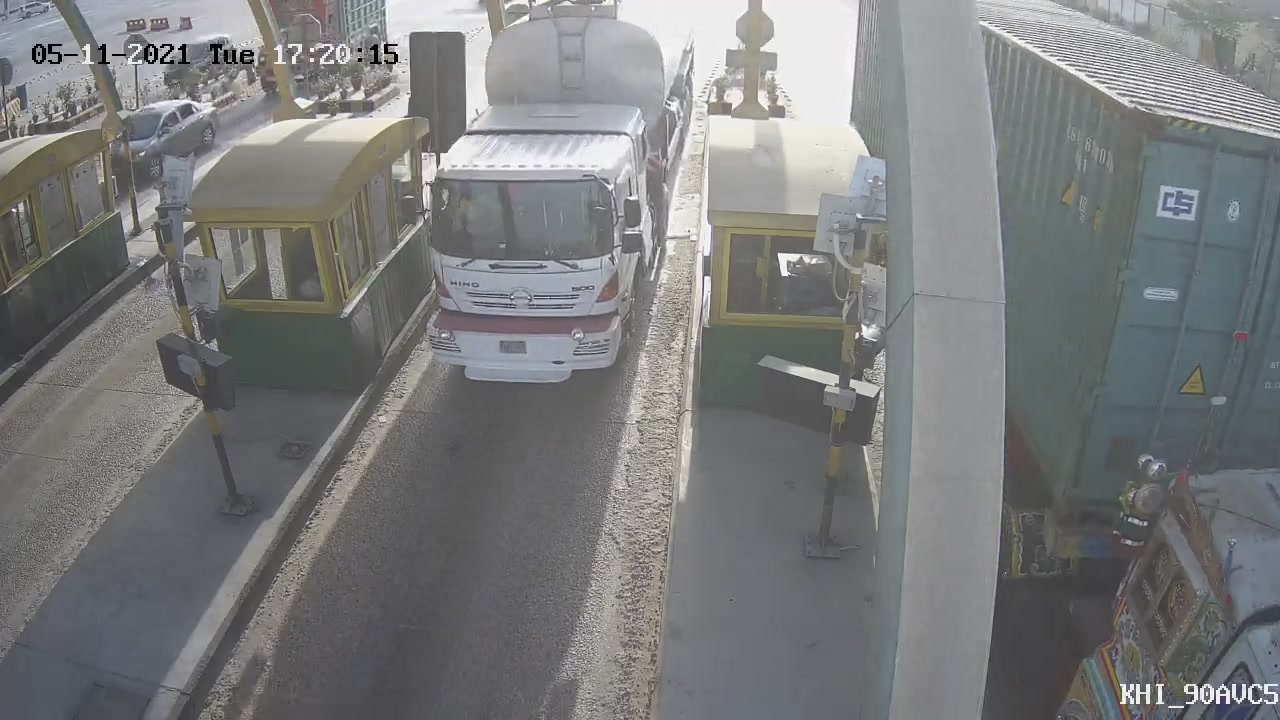F6: (381, 4, 707, 413)
